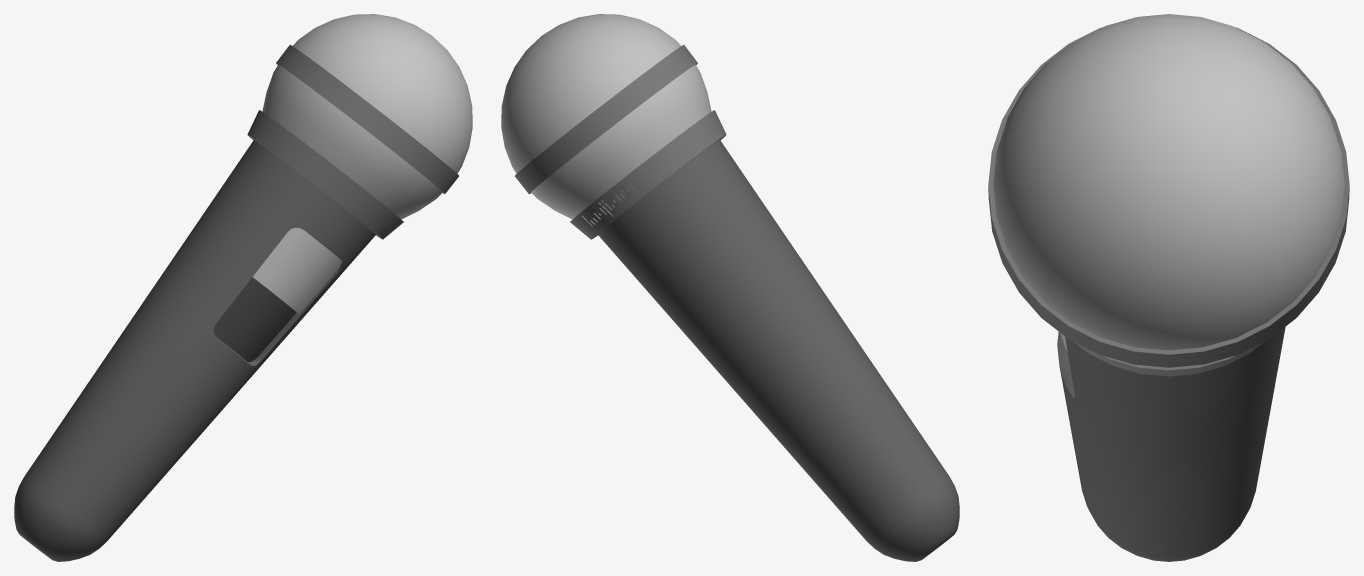
The model's file is microphone.glb.
The picture shows the model from 3 angles, left to right: view 1: azimuth 30°, elevation 25°; view 2: azimuth 150°, elevation 25°; view 3: azimuth 270°, elevation 25°; orthographic projection. The views are drawn at different scales.
Visible parts, largest first — view 1: Sphere.526; view 2: Sphere.526; view 3: Sphere.526.
Part boxes in pixels (x1,y1,x2,y2): Sphere.526: [14, 14, 472, 561]; Sphere.526: [501, 14, 959, 561]; Sphere.526: [988, 14, 1349, 561].
Bounding box in the file's own units: 1.87 × 1.87 × 0.7926.
1 material, 1 textured.
